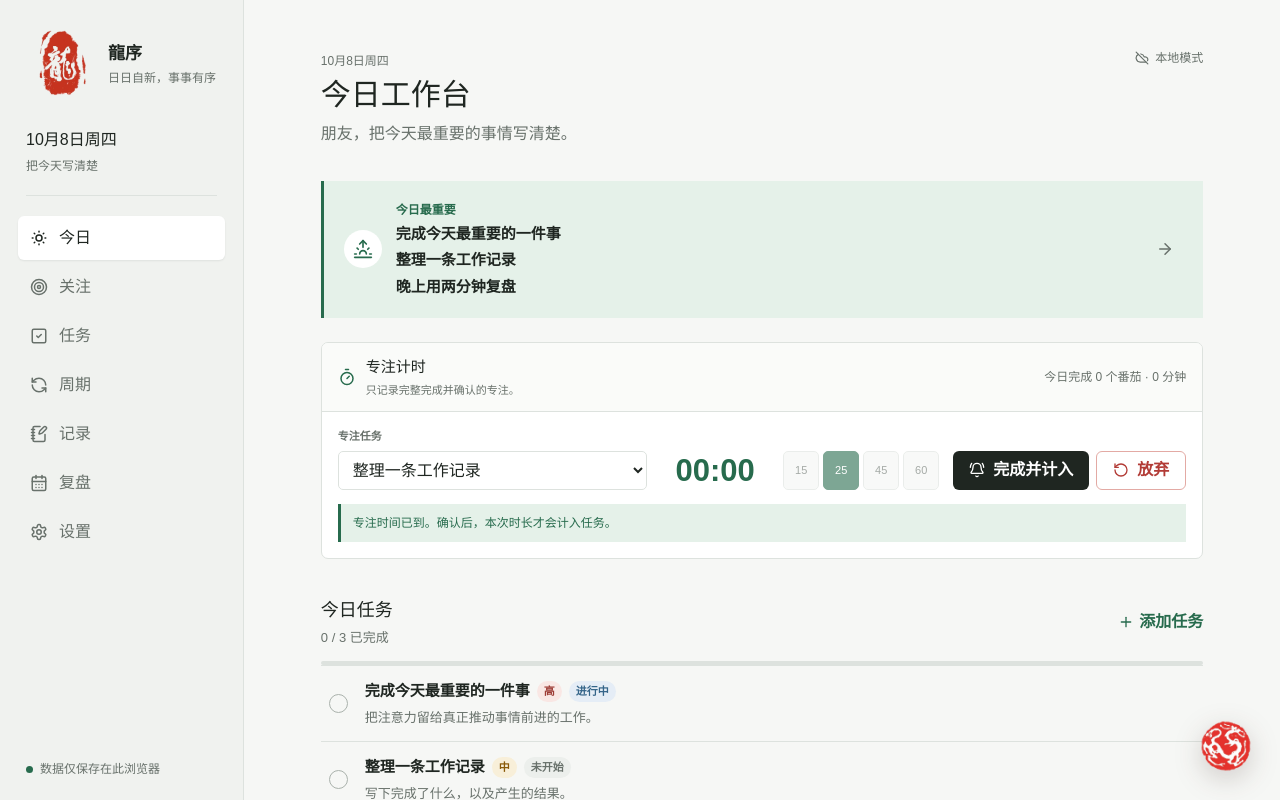
workbench navigation › requires confirmation before a completed Pomodoro is counted
This screenshot has width=1280, height=800.
Check: the heading "今日工作台" is shown, box [321,78,471,111]
Check: the text "今日完成 0 个番茄 · 0 分钟" is shown, box [1044,368,1186,386]
Click the button "完成并计入" at (1021, 470), box [953,451,1089,490]
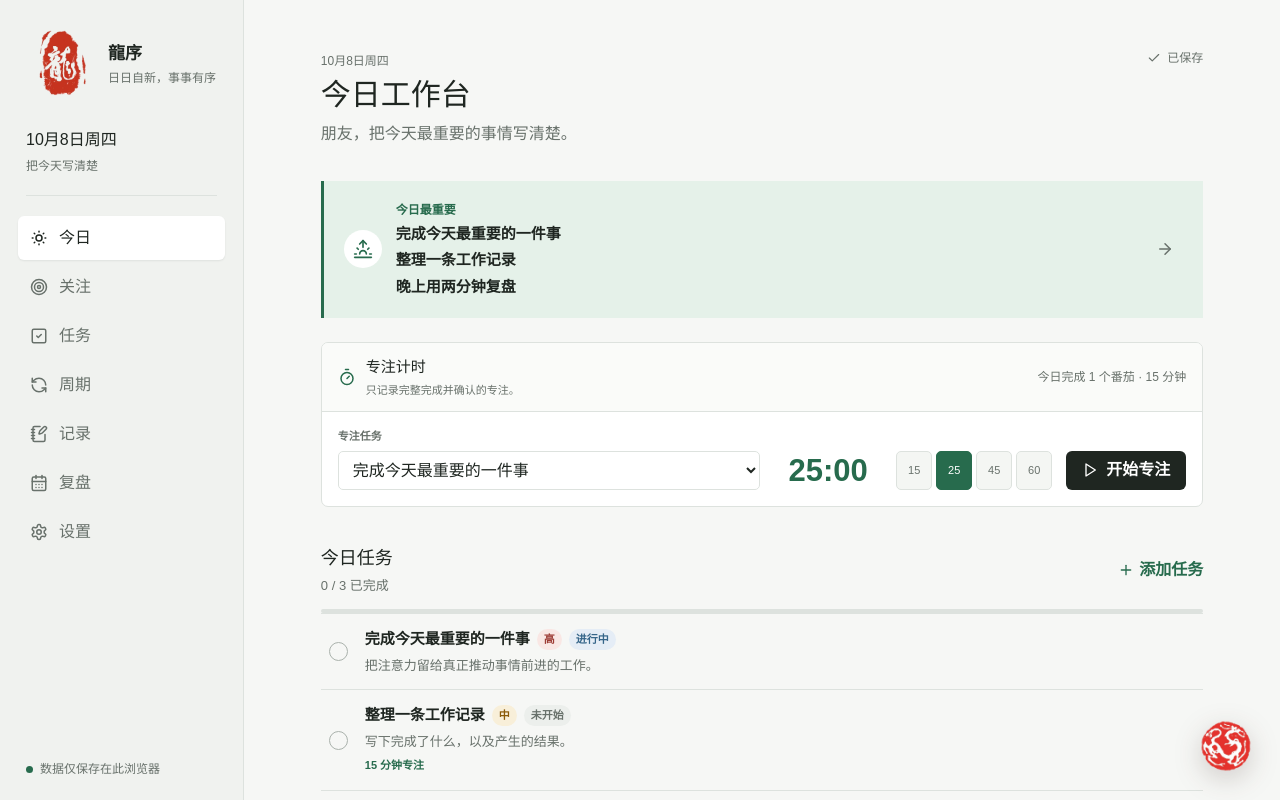
Check: the text "今日完成 1 个番茄 · 15 分钟" is shown, box [1038,368,1186,386]
Check: the text "15 分钟专注" is shown, box [365,758,424,774]
